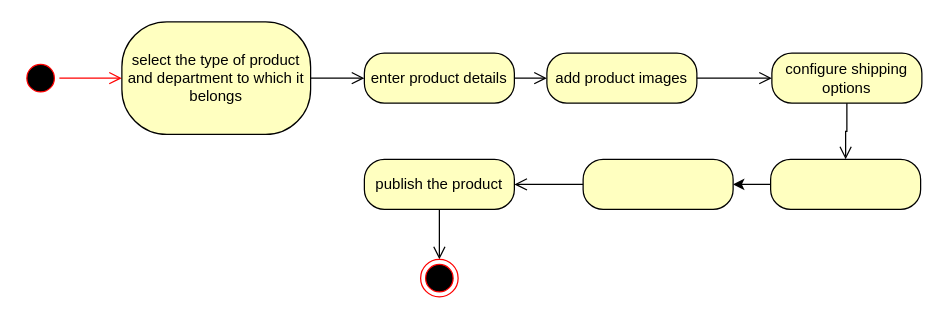
Image size: 944x319. Some labels were removed from this diagram. Each missing label, with the box of its shape:
review the post: (582, 158, 733, 209)
set price: (769, 158, 921, 209)
